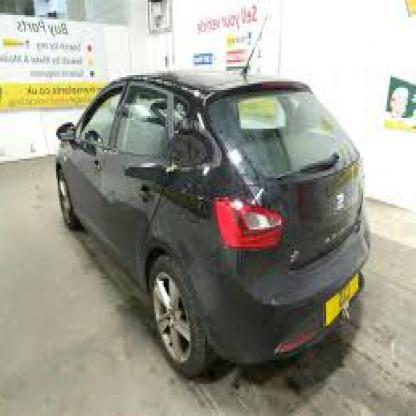dent: (168, 127, 212, 176)
